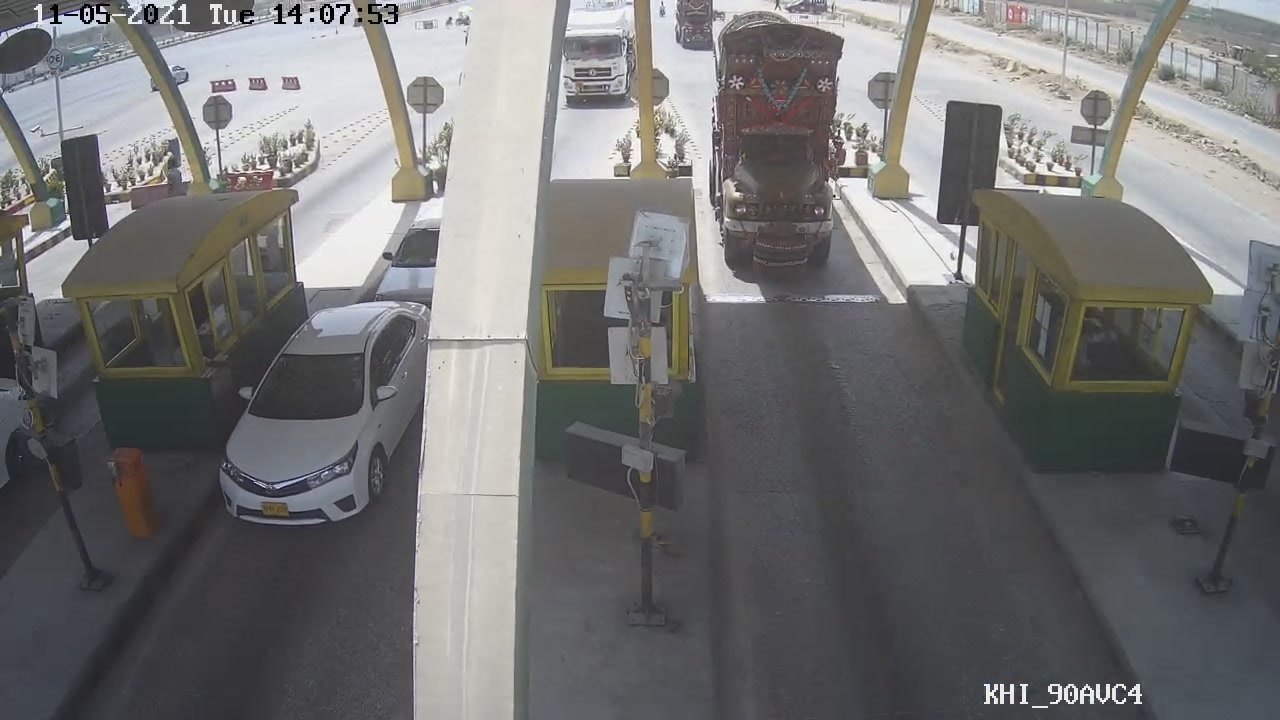F5: (700, 17, 858, 277)
